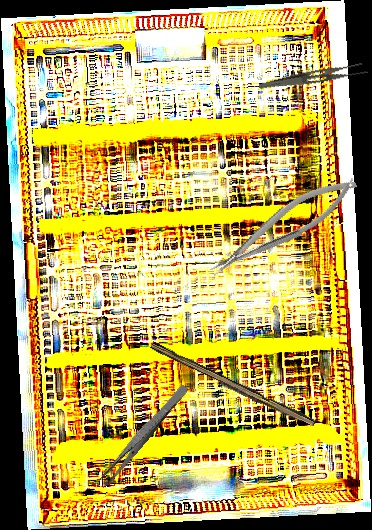Dressing Forceps: (98, 381, 190, 487), (258, 57, 369, 101)
Needle Holder: (200, 168, 365, 284)
Scalpel Handle: (147, 341, 318, 430)
